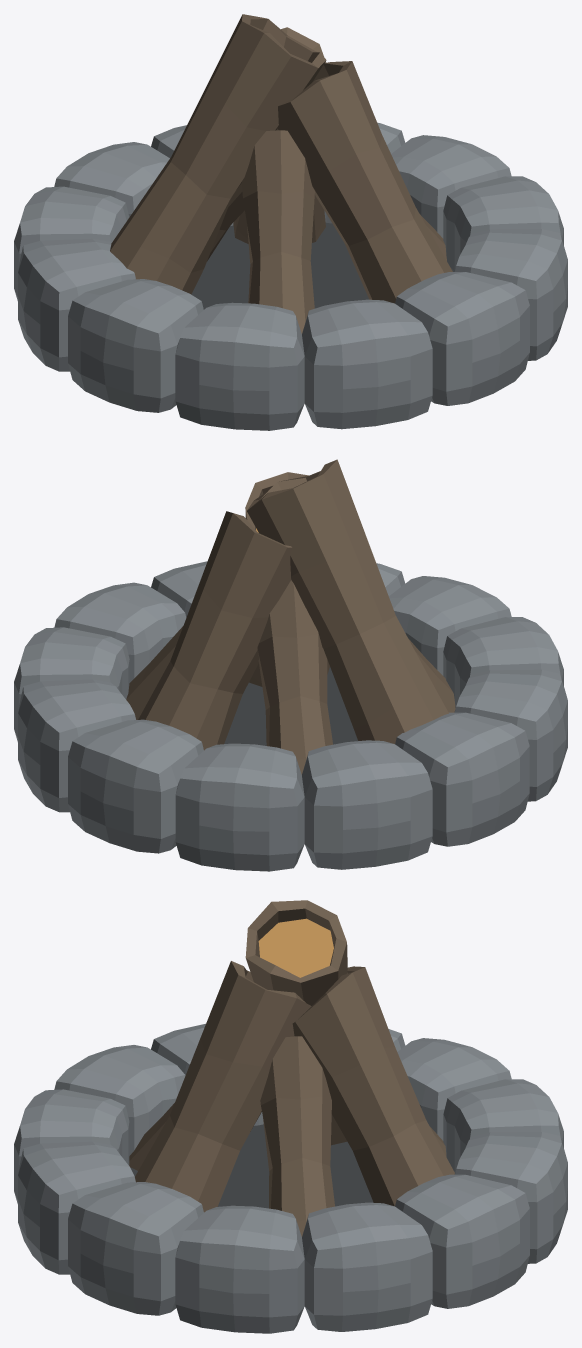
Rendered from Fireplace.fbx.
The picture shows the model from 3 angles, top to bottom: view 1: azimuth 30°, elevation 25°; view 2: azimuth 150°, elevation 25°; view 3: azimuth 270°, elevation 25°; orthographic projection.
Parts seen in each view (by area): view 1: Cubo, Cilindro.006, Círculo; view 2: Cubo, Cilindro.006, Círculo; view 3: Cubo, Cilindro.006, Círculo.
Part boxes in pixels (left/top/right/bottom): Cubo: left=14, top=122, right=567, bottom=430; Cilindro.006: left=110, top=14, right=452, bottom=333; Círculo: left=191, top=222, right=454, bottom=309; Cubo: left=14, top=561, right=567, bottom=871; Cilindro.006: left=126, top=459, right=455, bottom=774; Círculo: left=224, top=667, right=357, bottom=745; Cubo: left=14, top=1023, right=567, bottom=1333; Cilindro.006: left=129, top=900, right=454, bottom=1236; Círculo: left=130, top=1124, right=373, bottom=1208.
Bounding box in the file's own units: 206 × 141 × 206.
